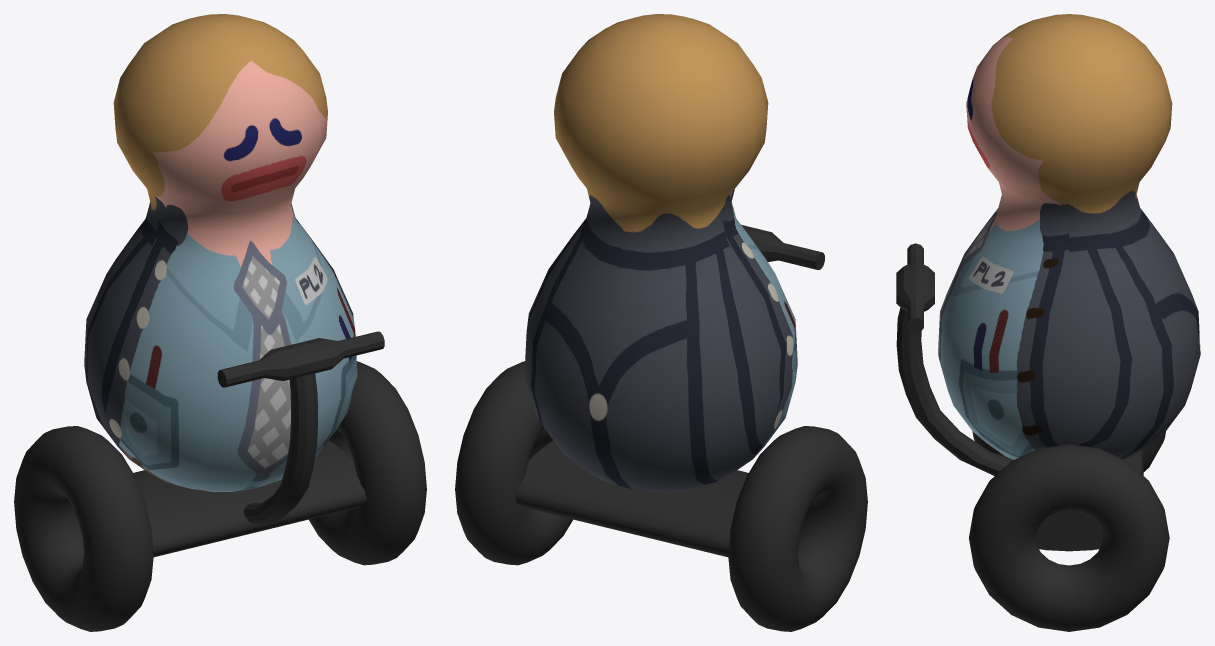
Rendered from begoneplayer2.fbx.
The picture shows the model from 3 angles, left to right: view 1: azimuth 30°, elevation 25°; view 2: azimuth 150°, elevation 25°; view 3: azimuth 270°, elevation 25°; orthographic projection. The views are drawn at different scales.
Parts seen in each view (by area): view 1: polySurface6; view 2: polySurface6; view 3: polySurface6.
Boxes of the visible parts, x1,y1,x2,y2 form: polySurface6: [14, 14, 426, 631]; polySurface6: [455, 14, 867, 631]; polySurface6: [896, 14, 1200, 631].
Bounding box in the file's own units: 2.73 × 4.42 × 2.26.
